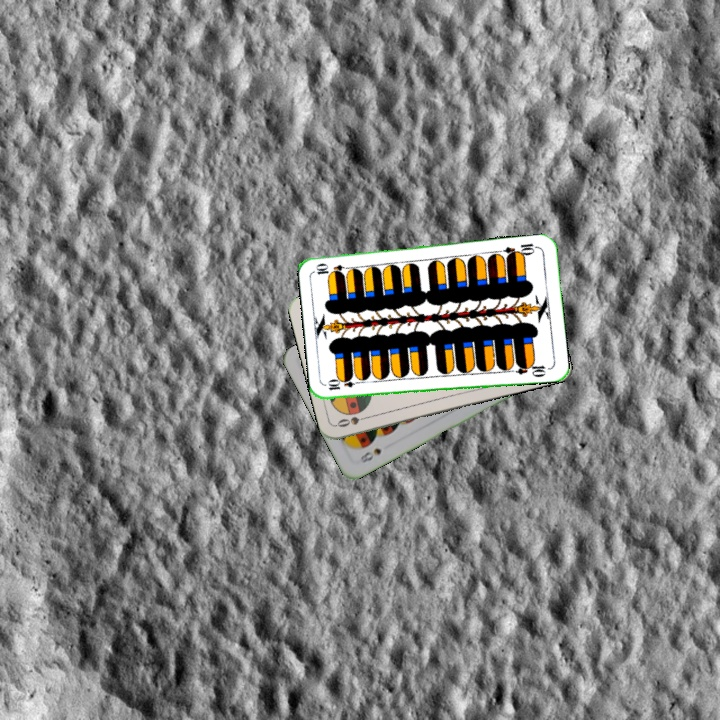E10: (500, 239, 541, 260), (324, 376, 364, 393)
S8: (356, 444, 384, 465)
SO: (333, 412, 373, 430)
